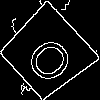O: (22, 28, 83, 87)
